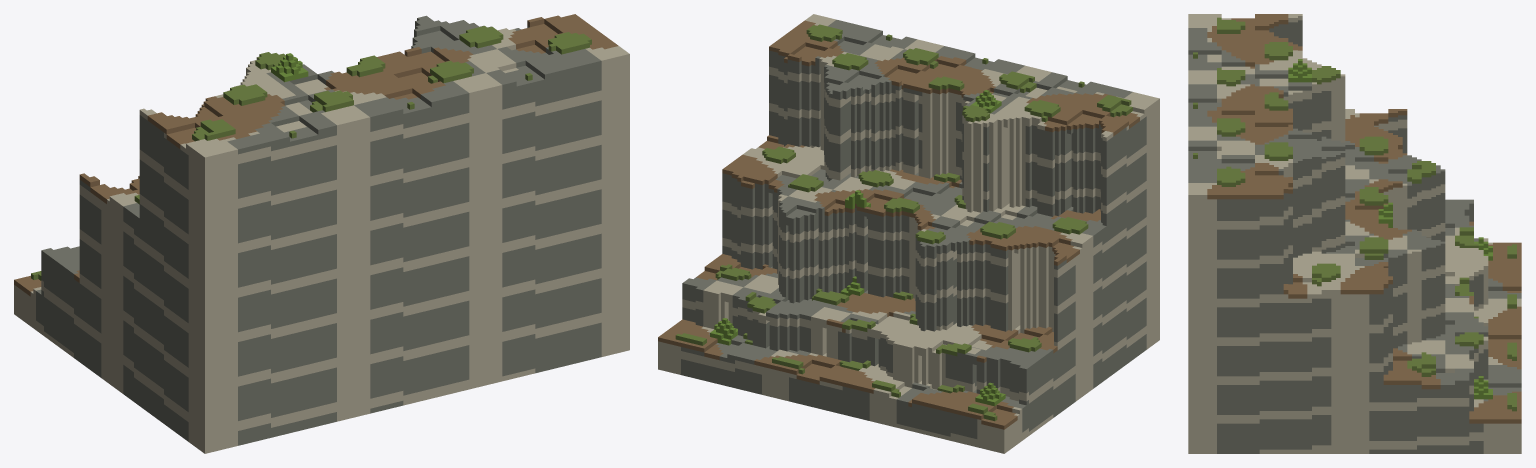
File: visual-far.glb
3 views of the same model, side by side, from view 1: azimuth 30°, elevation 25°; view 2: azimuth 150°, elevation 25°; view 3: azimuth 270°, elevation 25° (orthographic). The views are drawn at different scales.
Visible parts, largest first — view 1: 错层岩台与次级崖阶母版; view 2: 错层岩台与次级崖阶母版; view 3: 错层岩台与次级崖阶母版.
Part boxes in pixels (x1,y1,x2,y2): 错层岩台与次级崖阶母版: (14, 14, 629, 453); 错层岩台与次级崖阶母版: (658, 14, 1159, 453); 错层岩台与次级崖阶母版: (1188, 14, 1521, 453).
Size of the model in its own units: 18 by 12.8 by 14.
Materials: 5 (5 with a texture image).
